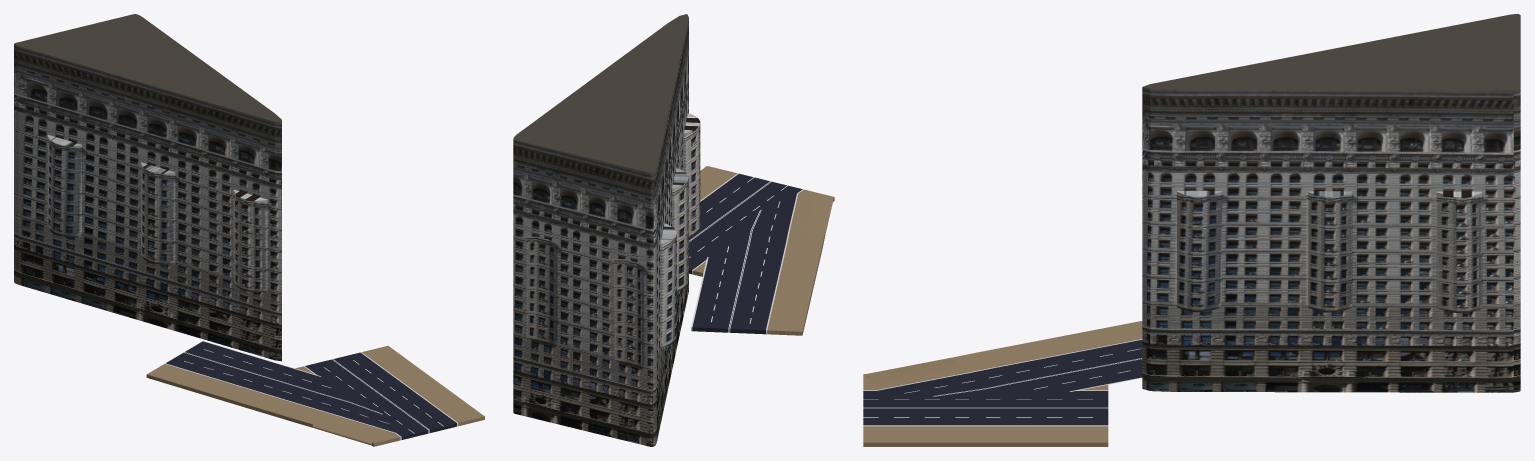
The model's file is Iron House Road.fbx.
3 views of the same model, side by side, from view 1: azimuth 30°, elevation 25°; view 2: azimuth 150°, elevation 25°; view 3: azimuth 270°, elevation 25° (orthographic). The views are drawn at different scales.
Visible parts, largest first — view 1: flatiron, Cube.004, Cube.005; view 2: flatiron, Cube.004, Cube.005; view 3: flatiron, Cube.005, Cube.004.
Boxes of the visible parts, x1,y1,x2,y2 form: flatiron: (14, 14, 281, 361); Cube.004: (146, 341, 395, 445); Cube.005: (295, 346, 484, 446); flatiron: (513, 14, 700, 446); Cube.004: (691, 193, 833, 335); Cube.005: (689, 166, 834, 276); flatiron: (1142, 14, 1520, 392); Cube.005: (863, 374, 1108, 446); Cube.004: (865, 321, 1142, 396).
Size of the model in its own units: 765 by 824 by 1619.
